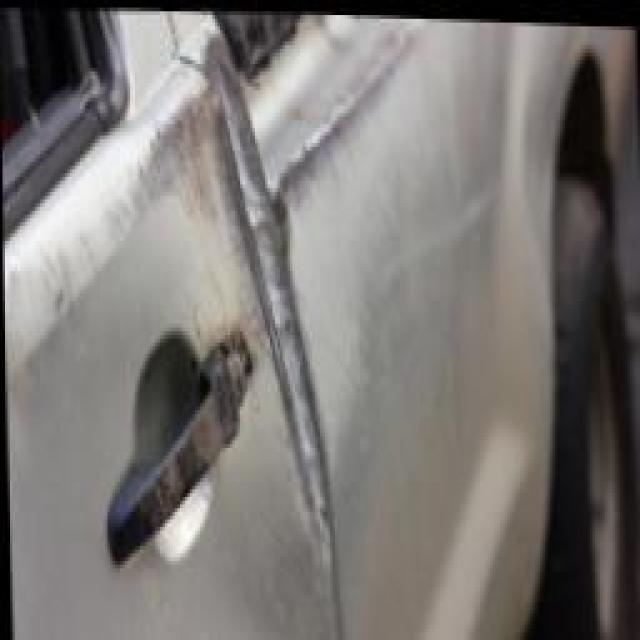Door: (0, 23, 309, 583)
Fender: (268, 8, 435, 239)
